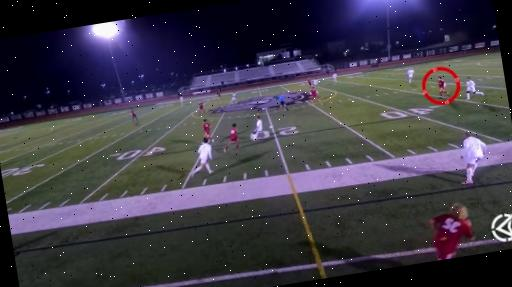highlight_overlay: (418, 63, 468, 109)
